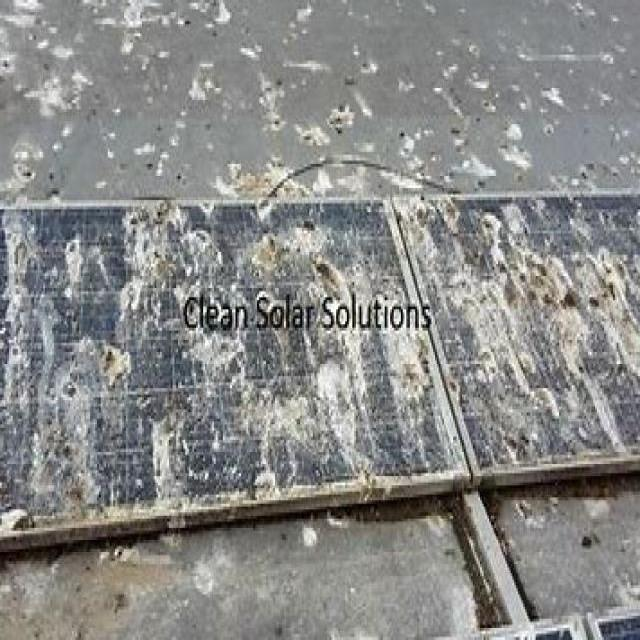faulty: (0, 202, 411, 510), (405, 188, 640, 477)
